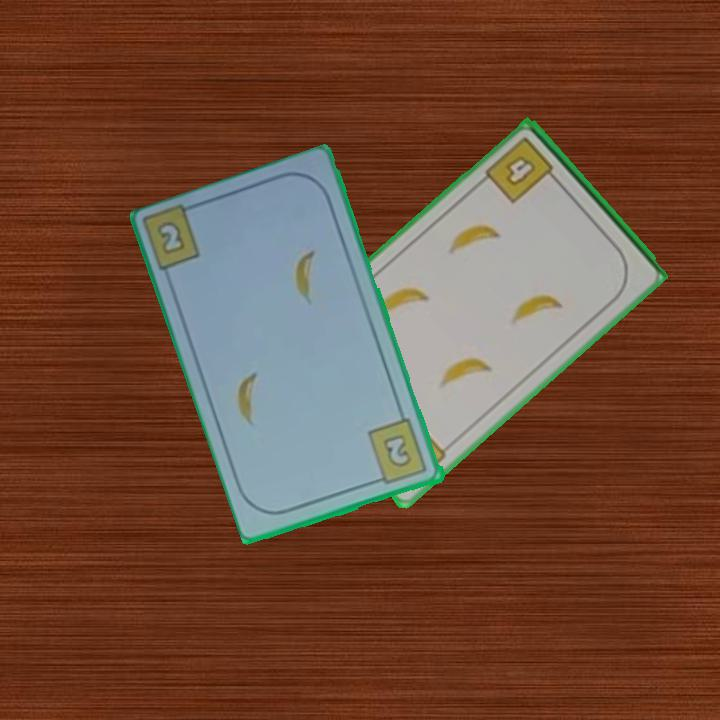2b: (365, 415, 431, 488), (157, 221, 186, 254)
4b: (481, 133, 563, 207)
